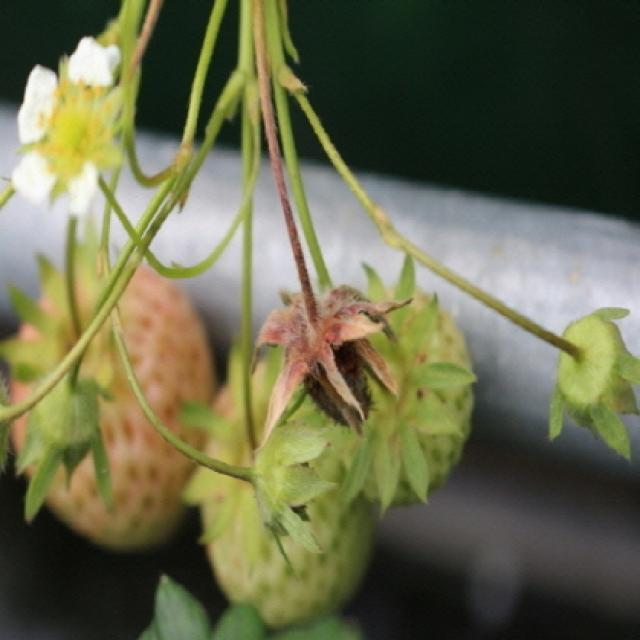Gray Mold: (252, 250, 414, 449)
